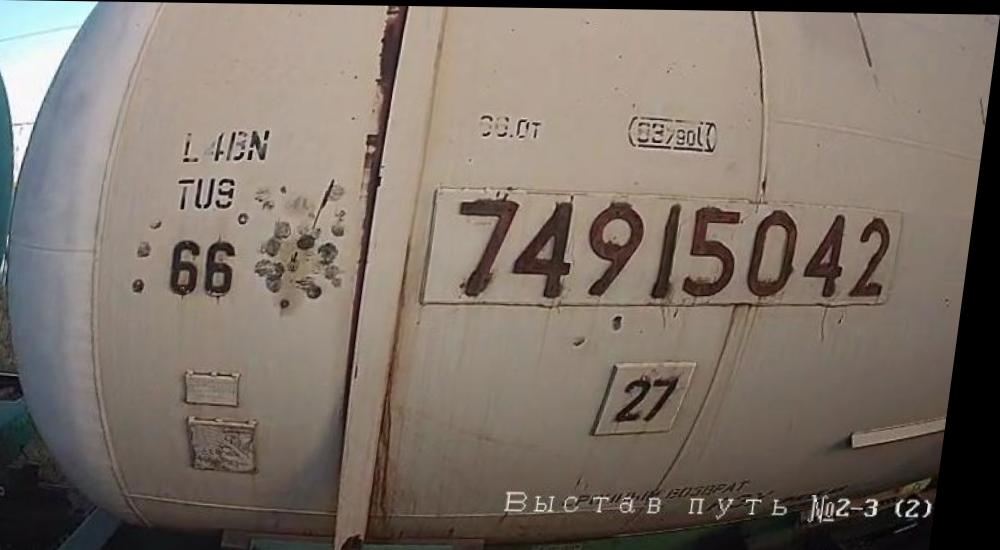Wagon-number: (444, 190, 908, 306)
